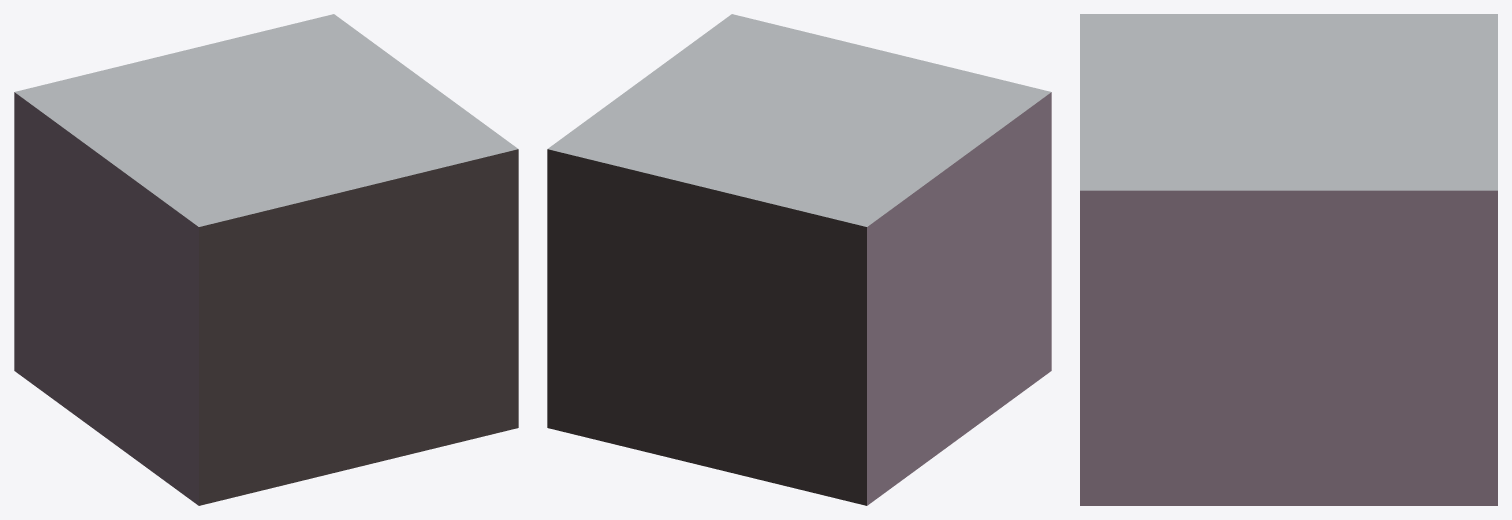
Rendered from rock.gltf.
3 views of the same model, side by side, from view 1: azimuth 30°, elevation 25°; view 2: azimuth 150°, elevation 25°; view 3: azimuth 270°, elevation 25° (orthographic). The views are drawn at different scales.
Parts seen in each view (by area): view 1: cuboid; view 2: cuboid; view 3: cuboid.
Boxes of the visible parts, x1,y1,x2,y2 form: cuboid: (14, 14, 518, 505); cuboid: (547, 14, 1051, 505); cuboid: (1080, 14, 1497, 505).
Bounding box in the file's own units: 0.075 × 0.0625 × 0.075.
1 material, 1 textured.
